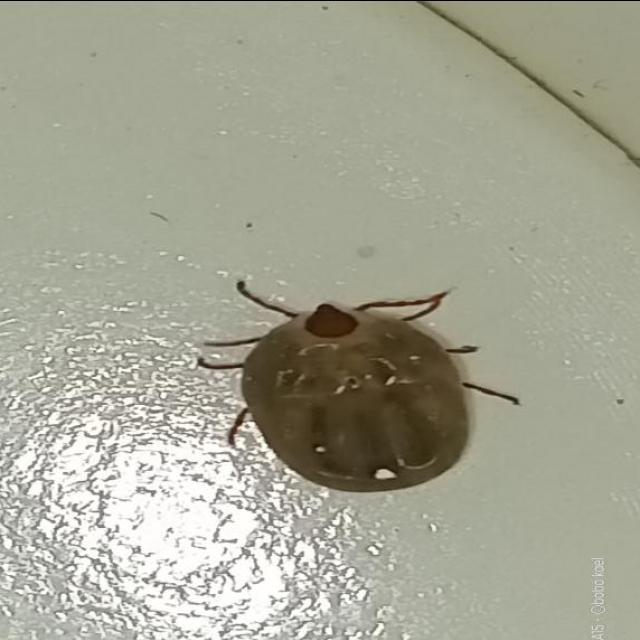Rhipicephalus Sanguineus-F-Fed: (180, 272, 521, 491)
